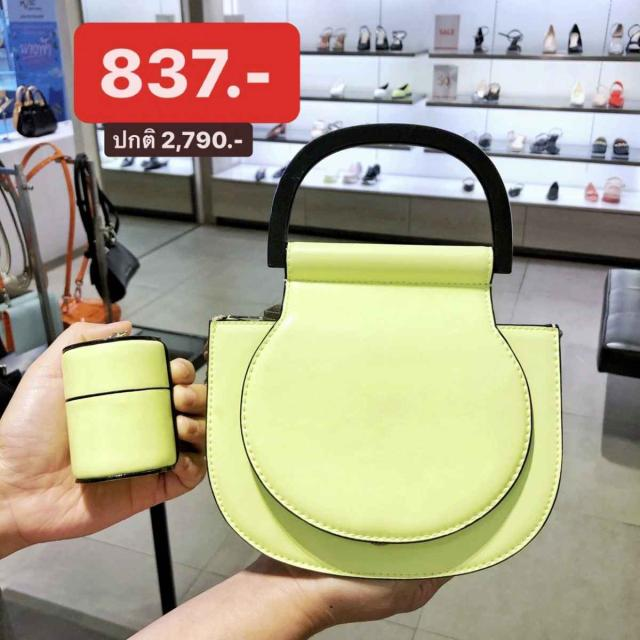Handbag: (204, 109, 570, 583)
